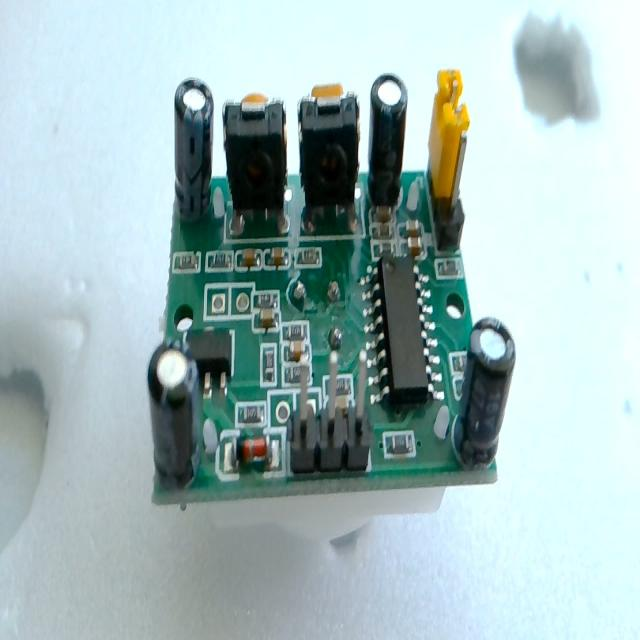Electrolytic capacitor: (454, 318, 516, 470), (147, 340, 201, 489), (366, 73, 408, 214), (173, 77, 214, 221)
IC: (363, 253, 442, 409)
pinheader: (286, 349, 372, 473)
